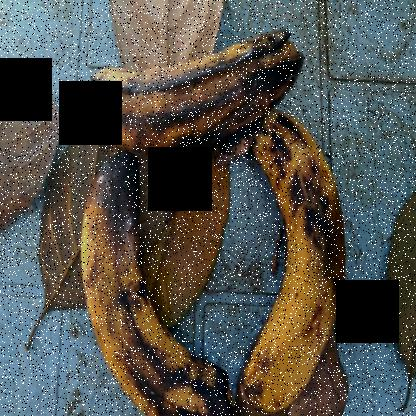overripe: (237, 117, 354, 414)
rotten: (68, 5, 310, 159), (82, 167, 225, 415)
